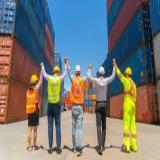Helmet: (30, 74, 39, 84), (52, 66, 61, 74), (74, 64, 82, 73), (124, 66, 132, 75), (98, 66, 105, 75)
Vest: (69, 76, 85, 106), (25, 86, 40, 114), (48, 74, 61, 104)
